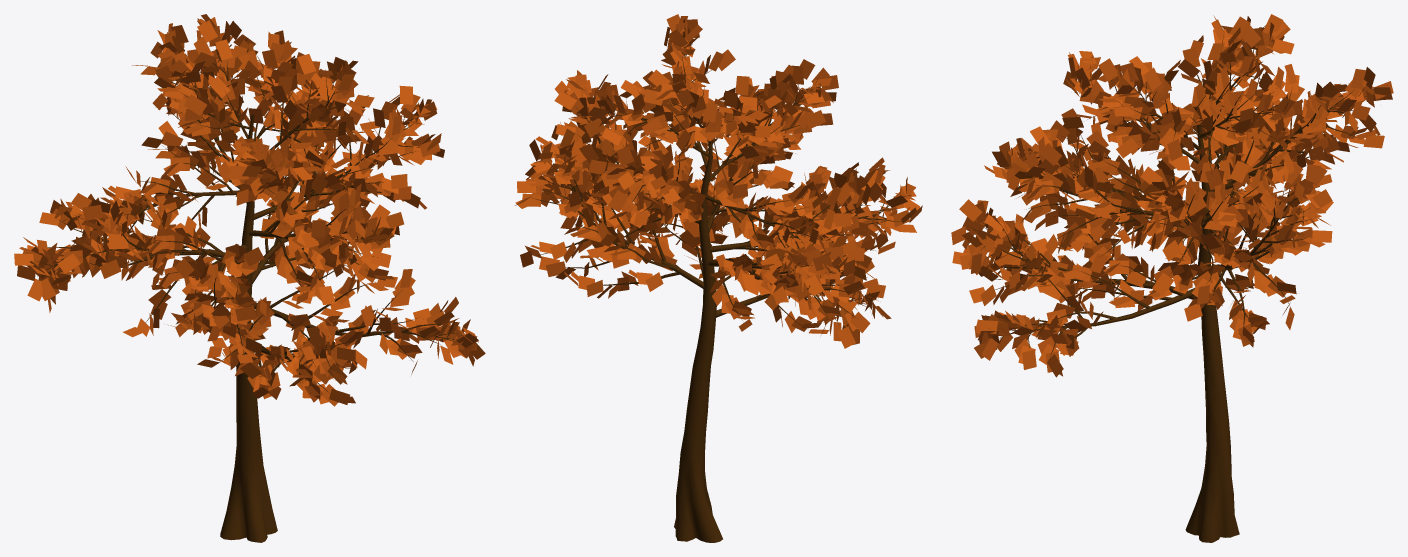
File: Baum8 Neu.FBX
3 views of the same model, side by side, from view 1: azimuth 30°, elevation 25°; view 2: azimuth 150°, elevation 25°; view 3: azimuth 270°, elevation 25° (orthographic). The views are drawn at different scales.
Parts seen in each view (by area): view 1: Foliage014; view 2: Foliage014; view 3: Foliage014.
Part boxes in pixels (bbox=[...]): Foliage014: bbox=[14, 14, 485, 542]; Foliage014: bbox=[515, 14, 922, 542]; Foliage014: bbox=[951, 14, 1393, 542].
Size of the model in its own units: 512 by 637 by 501.
